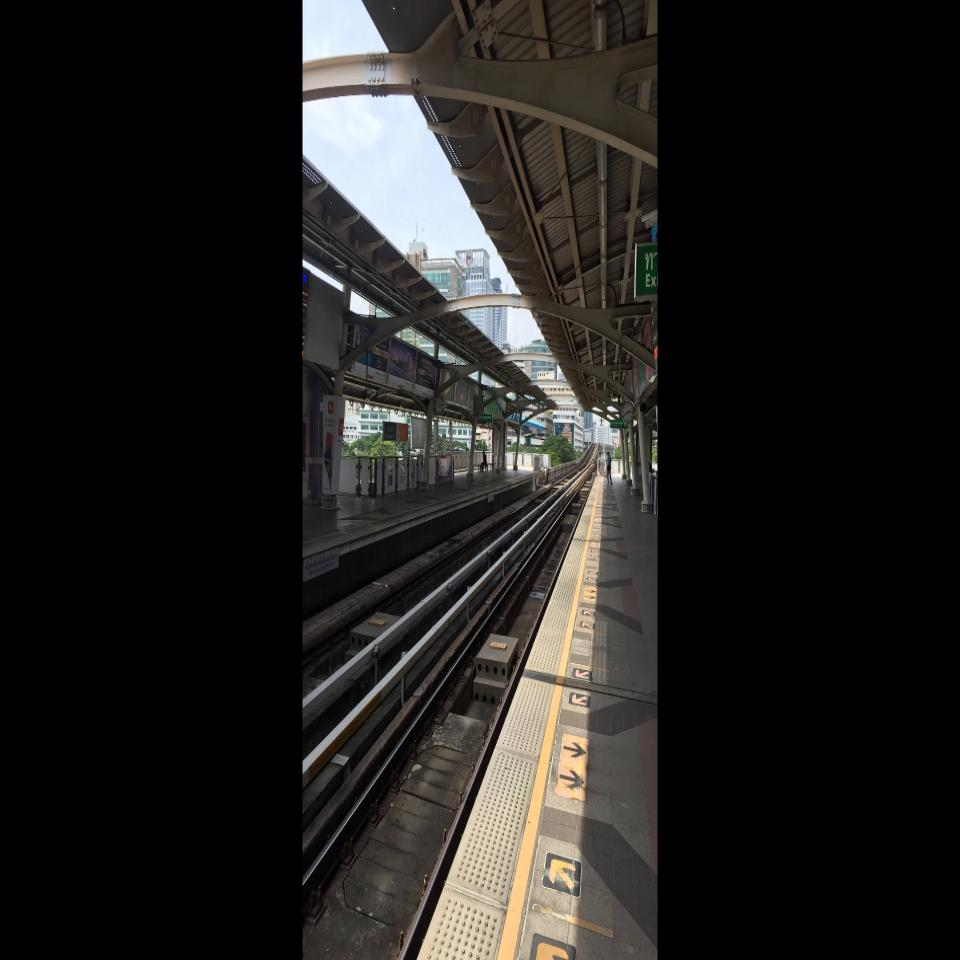Ratchadamri: (383, 421, 397, 442), (397, 423, 408, 442)
